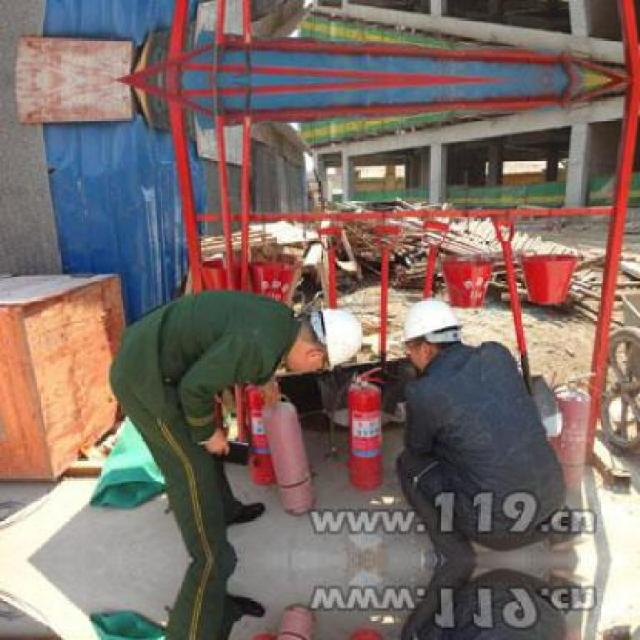helmet: (282, 299, 368, 387), (400, 296, 458, 366)
